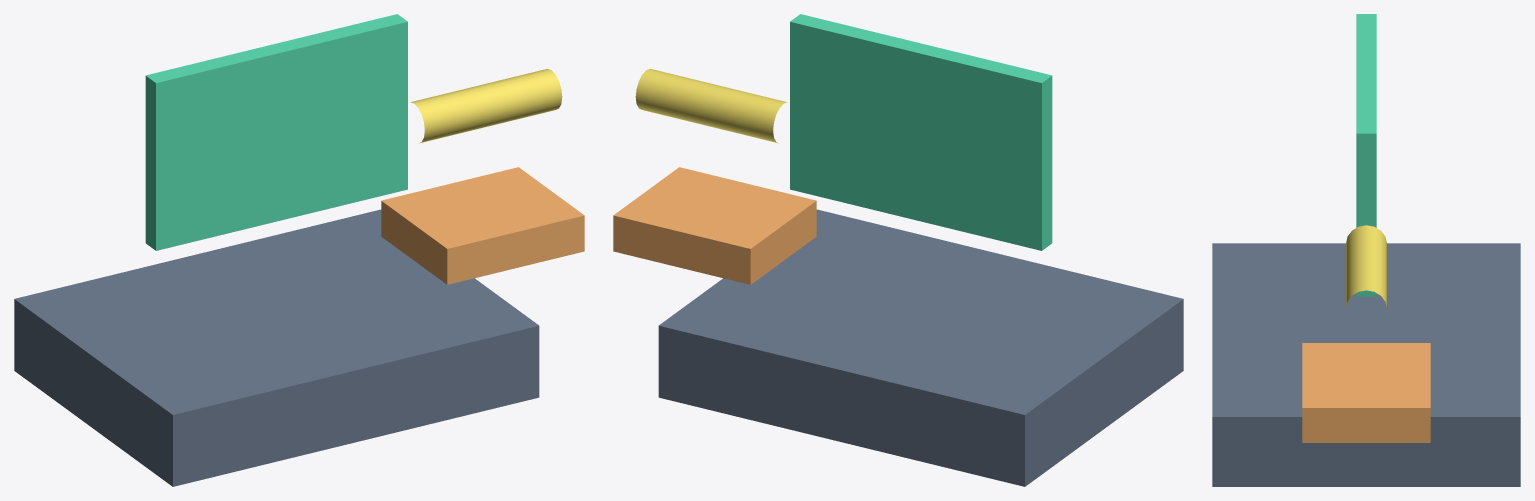
The model's file is sqc_control_charts.glb.
3 views of the same model, side by side, from view 1: azimuth 30°, elevation 25°; view 2: azimuth 150°, elevation 25°; view 3: azimuth 270°, elevation 25° (orthographic). The views are drawn at different scales.
Parts seen in each view (by area): view 1: InspectionWorkstationTable, ControlChartAnalyticsDisplay, BatchSamplingInspectionTray, PrecisionGoNoGoPlugGauge; view 2: InspectionWorkstationTable, ControlChartAnalyticsDisplay, BatchSamplingInspectionTray, PrecisionGoNoGoPlugGauge; view 3: InspectionWorkstationTable, BatchSamplingInspectionTray, ControlChartAnalyticsDisplay, PrecisionGoNoGoPlugGauge.
Boxes of the visible parts, x1,y1,x2,y2 form: InspectionWorkstationTable: (14,209,539,486); ControlChartAnalyticsDisplay: (145,14,407,250); BatchSamplingInspectionTray: (381,167,584,284); PrecisionGoNoGoPlugGauge: (411,68,562,143); InspectionWorkstationTable: (658,209,1183,486); ControlChartAnalyticsDisplay: (790,14,1052,250); BatchSamplingInspectionTray: (613,167,816,284); PrecisionGoNoGoPlugGauge: (635,68,786,143); InspectionWorkstationTable: (1212,243,1520,486); BatchSamplingInspectionTray: (1302,343,1430,442); ControlChartAnalyticsDisplay: (1356,14,1376,296); PrecisionGoNoGoPlugGauge: (1346,225,1386,307).
Bounding box in the file's own units: 2 × 1.4 × 1.2.
